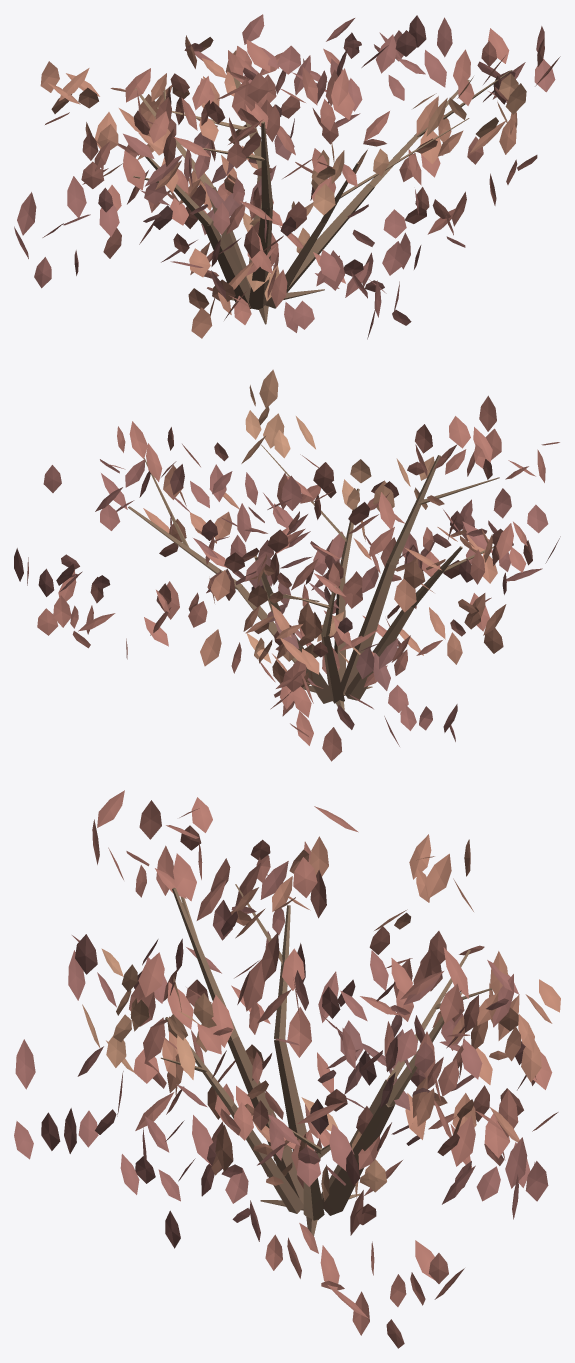
Rendered from bush_3d_05_red.glb.
3 renders of one model, top to bottom at view 1: azimuth 30°, elevation 25°; view 2: azimuth 150°, elevation 25°; view 3: azimuth 270°, elevation 25°, orthographic. The views are drawn at different scales.
Parts seen in each view (by area): view 1: bush_3d_05_red_foliage, bush_3d_05_red_wood; view 2: bush_3d_05_red_foliage, bush_3d_05_red_wood; view 3: bush_3d_05_red_foliage, bush_3d_05_red_wood.
Part boxes in pixels (box(x1,y1,x2,y2)): bush_3d_05_red_foliage: box(14, 14, 560, 339); bush_3d_05_red_wood: box(133, 70, 512, 324); bush_3d_05_red_foliage: box(14, 369, 560, 761); bush_3d_05_red_wood: box(128, 444, 499, 710); bush_3d_05_red_foliage: box(14, 790, 560, 1348); bush_3d_05_red_wood: box(160, 866, 491, 1236).
Bounding box in the file's own units: 3 × 1.65 × 2.3.
